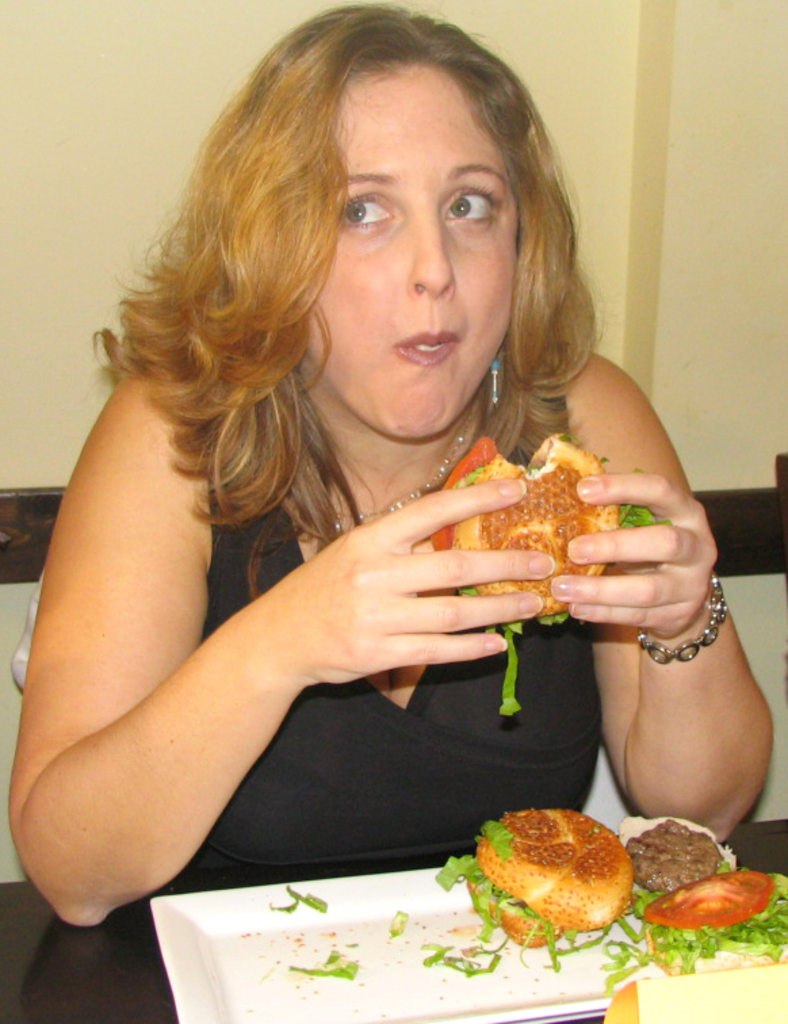Hamburger: (433, 432, 667, 713), (433, 805, 633, 967)
